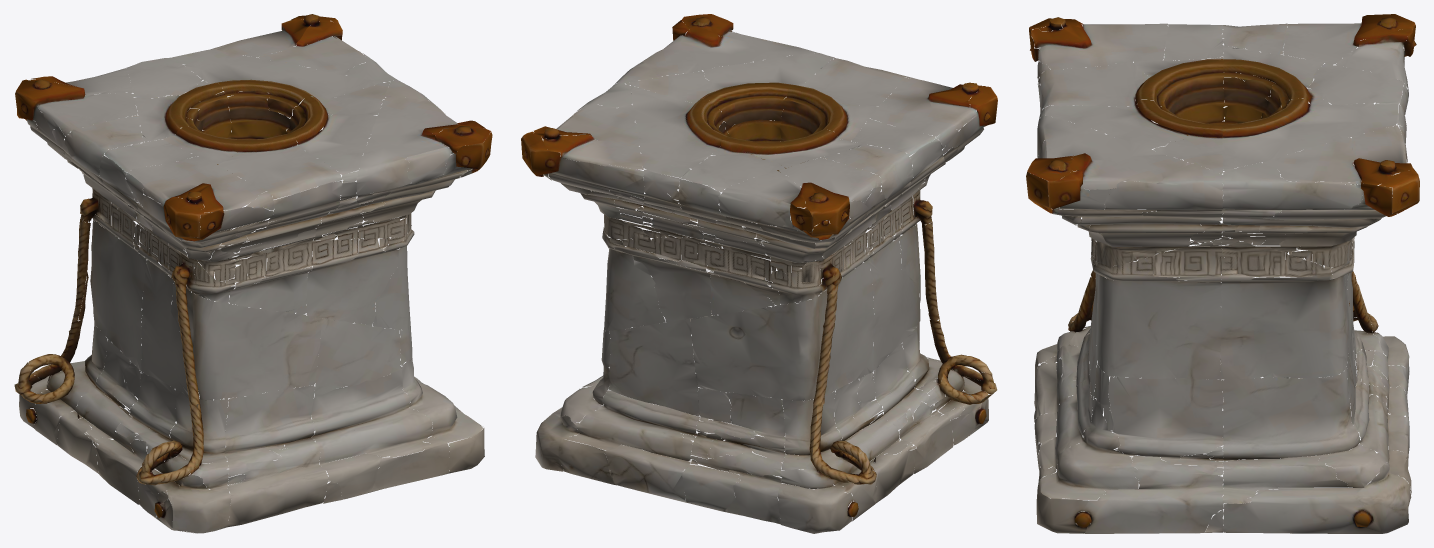
Rendered from winch_base.glb.
3 views of the same model, side by side, from view 1: azimuth 30°, elevation 25°; view 2: azimuth 150°, elevation 25°; view 3: azimuth 270°, elevation 25° (orthographic). The views are drawn at different scales.
Parts seen in each view (by area): view 1: tripo_node_8c512c9b-1539-4d27-8dfd-d87aa0550b05; view 2: tripo_node_8c512c9b-1539-4d27-8dfd-d87aa0550b05; view 3: tripo_node_8c512c9b-1539-4d27-8dfd-d87aa0550b05.
Boxes of the visible parts, x1,y1,x2,y2 form: tripo_node_8c512c9b-1539-4d27-8dfd-d87aa0550b05: (14,14,492,533); tripo_node_8c512c9b-1539-4d27-8dfd-d87aa0550b05: (521,14,997,533); tripo_node_8c512c9b-1539-4d27-8dfd-d87aa0550b05: (1026,14,1419,533).
Size of the model in its own units: 1 by 0.9486 by 0.9311.
Materials: 1 (1 with a texture image).
